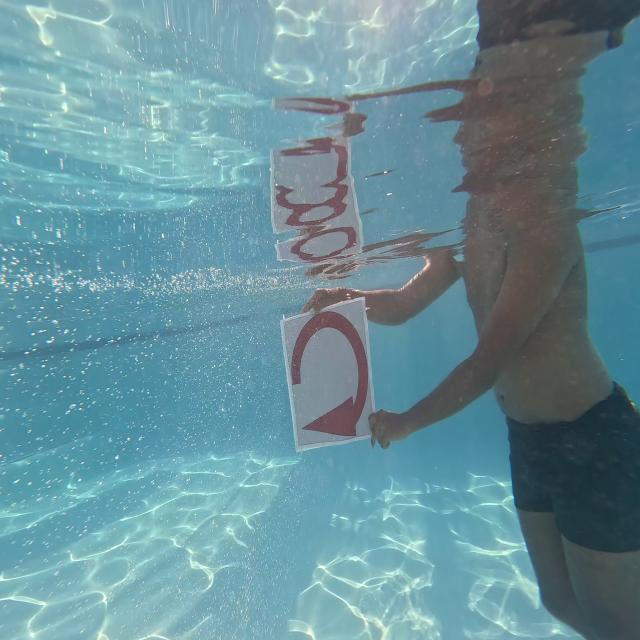red_side: (282, 306, 376, 448)
